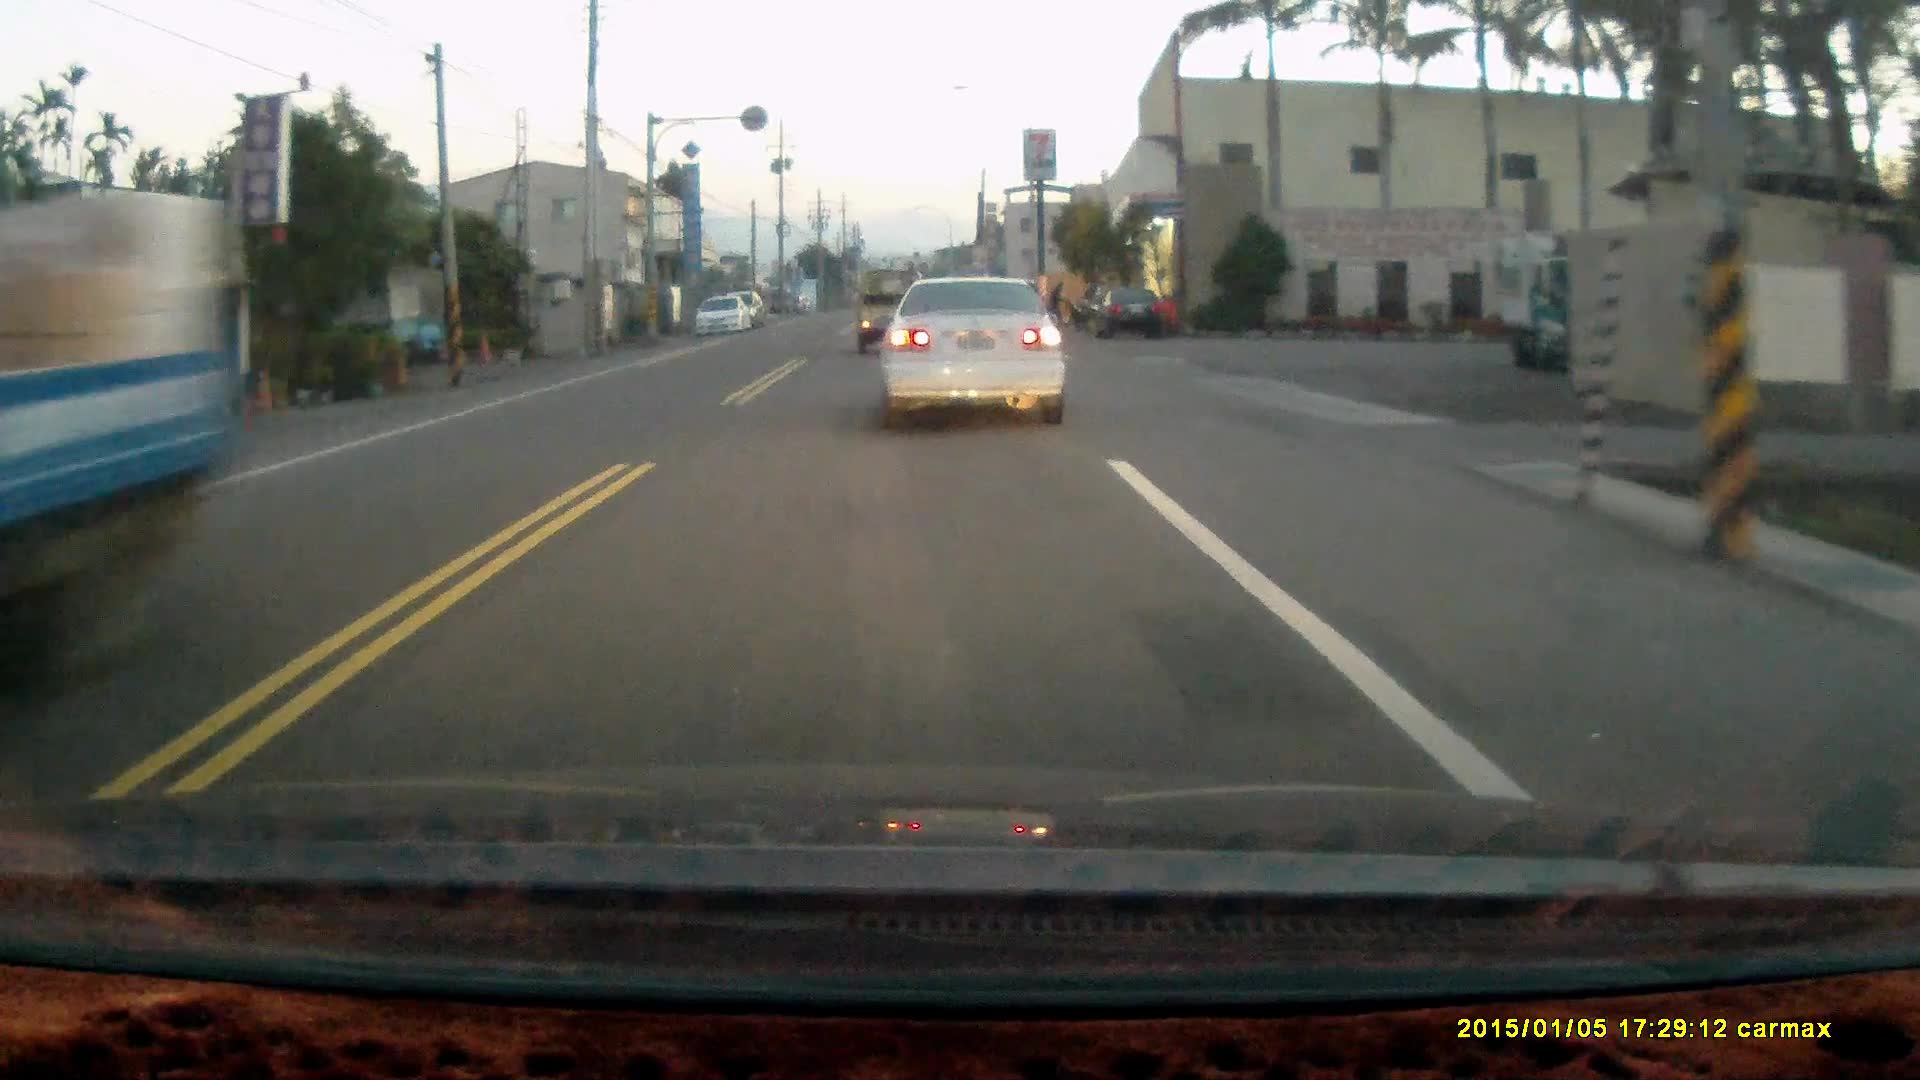rider: (1038, 278, 1084, 329)
vehicle: (1, 159, 243, 712), (887, 278, 1073, 435), (1489, 232, 1645, 380), (858, 274, 932, 363), (1089, 281, 1163, 340), (688, 288, 756, 341)
